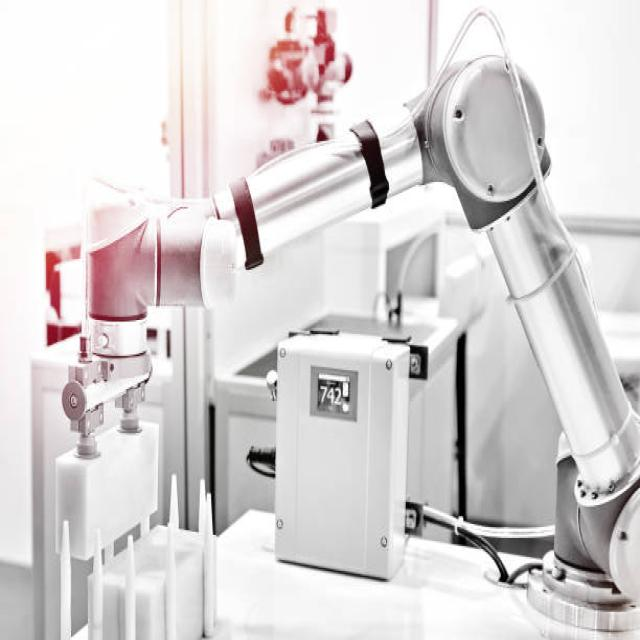Robotic-arm: (76, 49, 637, 594)
